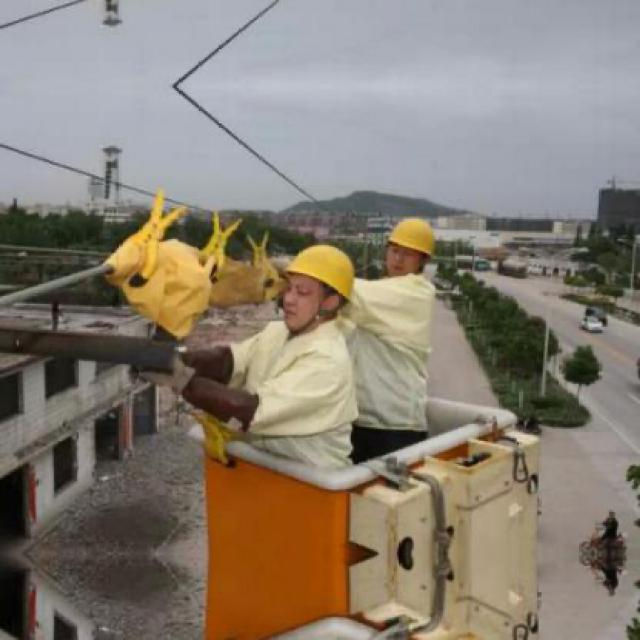helmet: (276, 236, 364, 328), (382, 212, 438, 280)
